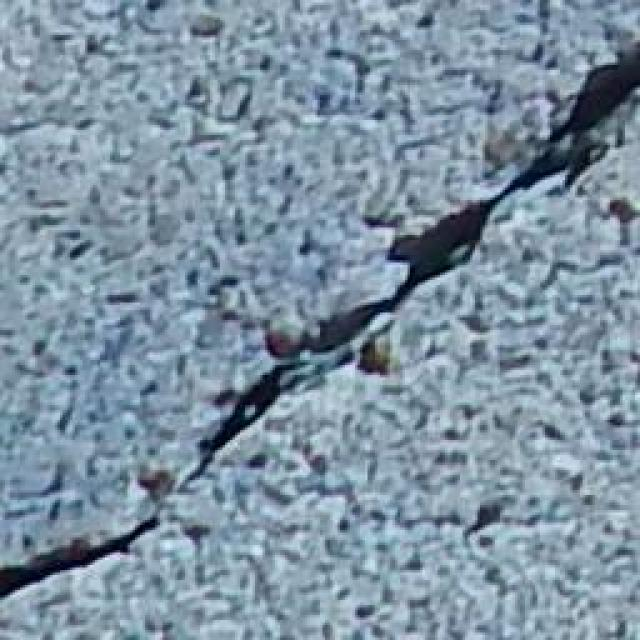concrete-crack: (0, 40, 640, 604)
